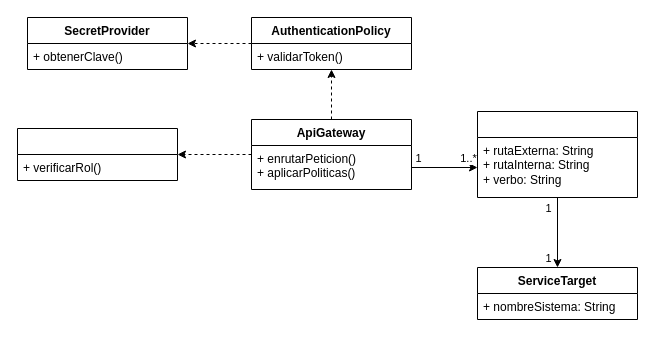
Image size: 655x340. Some labels were removed from this diagram. Here are the shapes that lost their labels. From the top down, the box of each, then its label:
(16, 128, 178, 180): AuthorizationPolicy
(476, 110, 638, 198): RouteDefinition
